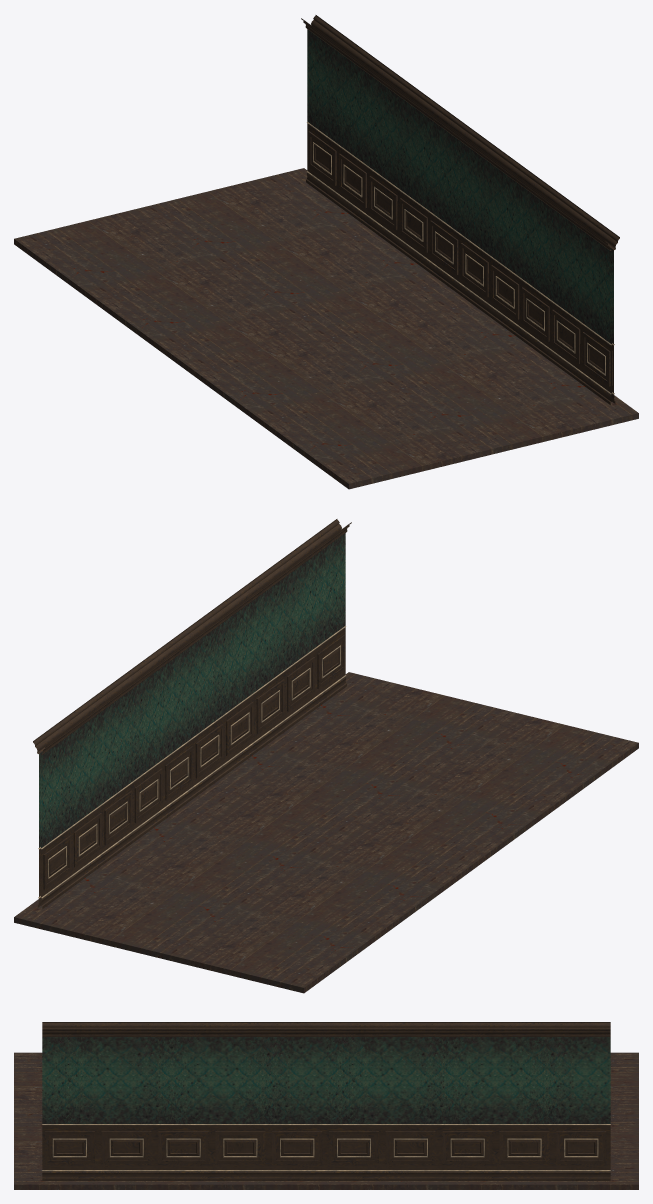
The model's file is RoomCutscene.fbx.
3 renders of one model, top to bottom at view 1: azimuth 30°, elevation 25°; view 2: azimuth 150°, elevation 25°; view 3: azimuth 270°, elevation 25°, orthographic. The views are drawn at different scales.
Parts seen in each view (by area): view 1: pCube34.001, pCube34, polySurface9.001, polySurface9; view 2: pCube34, pCube34.001, polySurface9, polySurface9.001; view 3: polySurface9, polySurface9.001, pCube34, pCube34.001.
Boxes of the visible parts, x1,y1,x2,y2 form: pCube34.001: (181, 294, 638, 489); pCube34: (14, 168, 457, 366); polySurface9.001: (453, 126, 619, 404); polySurface9: (301, 15, 467, 293); pCube34: (14, 798, 471, 993); pCube34.001: (195, 672, 638, 870); polySurface9: (33, 630, 199, 908); polySurface9.001: (185, 519, 351, 797); polySurface9: (326, 1022, 610, 1180); polySurface9.001: (42, 1022, 326, 1180); pCube34: (326, 1052, 638, 1189); pCube34.001: (14, 1052, 326, 1189).
Size of the model in its own units: 550 by 310 by 1100.
